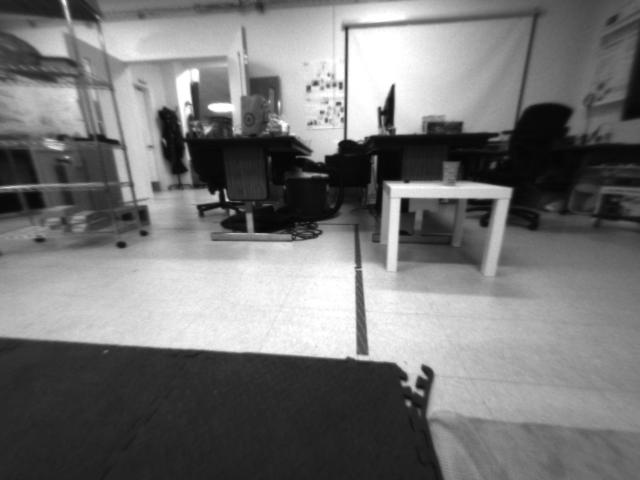coffee_cup: (439, 158, 463, 185)
